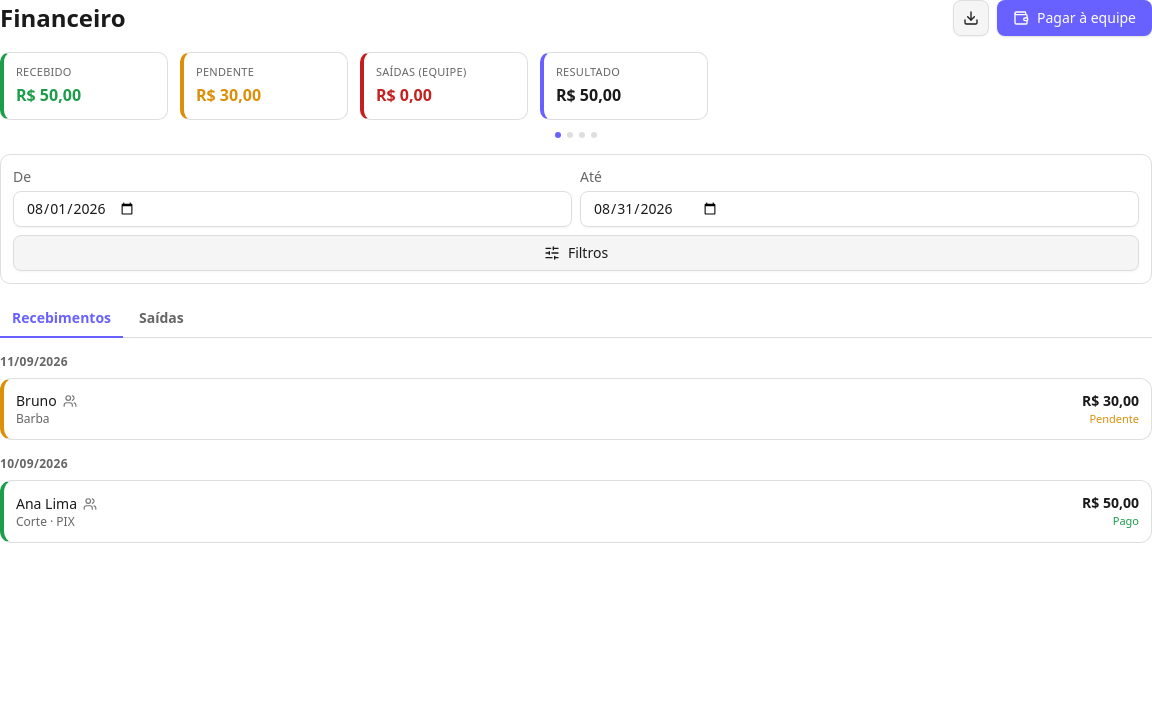
Test: Financeiro — recebimentos (Stories 5.2/5.3) › mobile — filtros no sheet › período fica visível; situação/forma/cliente só dentro do sheet
Expected: the text "Corte · PIX" is shown, [16,512,75,530]
Expected: the date field labelled "De" is shown, [13,191,572,227]
E aparecem ao abrir "Filtros".
Click the button "Filtros" at {"x": 576, "y": 253}, box [13,235,1139,271]
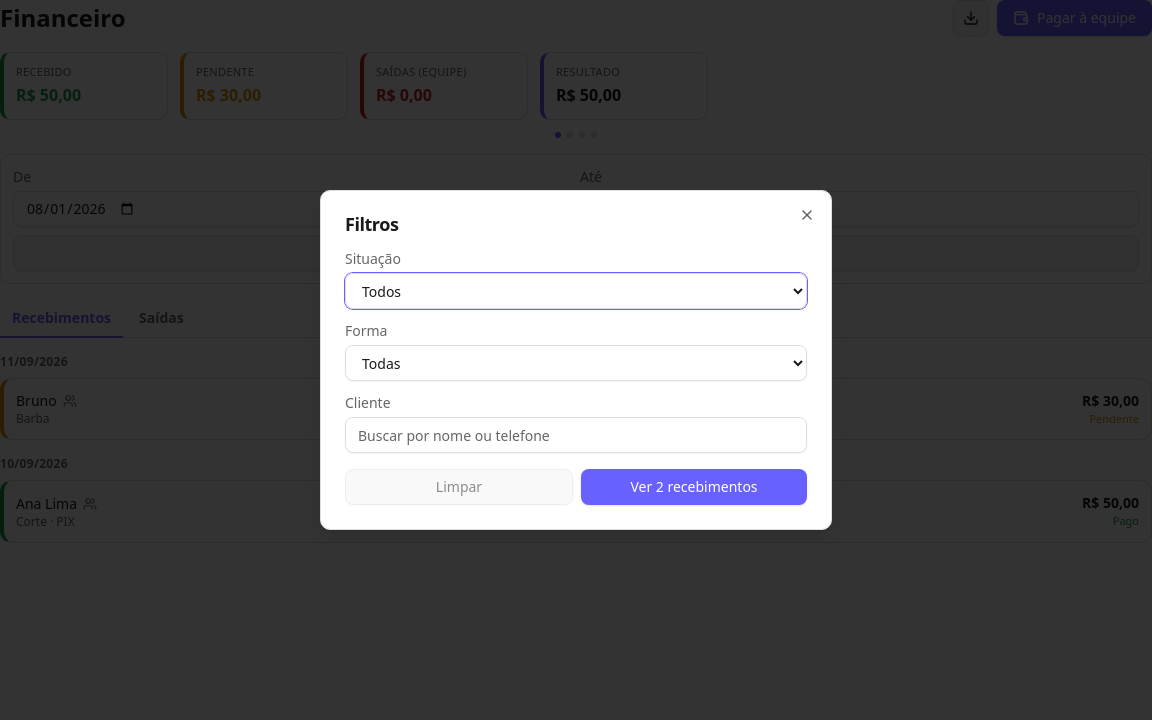
Result: the dropdown labelled "Situação" is shown at [345,273,807,309]
Result: the dropdown named "Forma de pagamento" is shown at [345,345,807,381]
Result: the field named "Cliente" is shown at [345,417,807,453]
